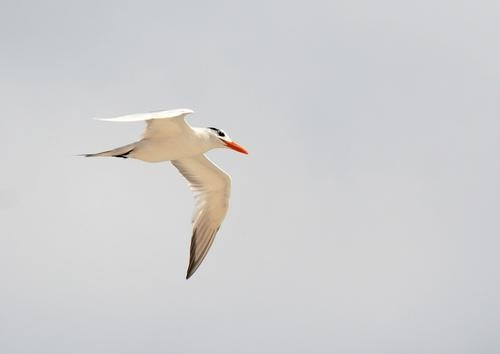bird: (71, 108, 247, 282)
